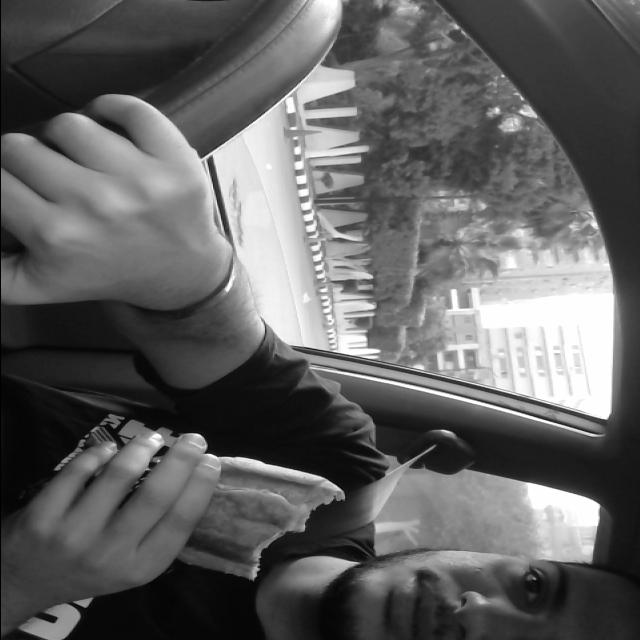eating: (48, 402, 344, 584)
